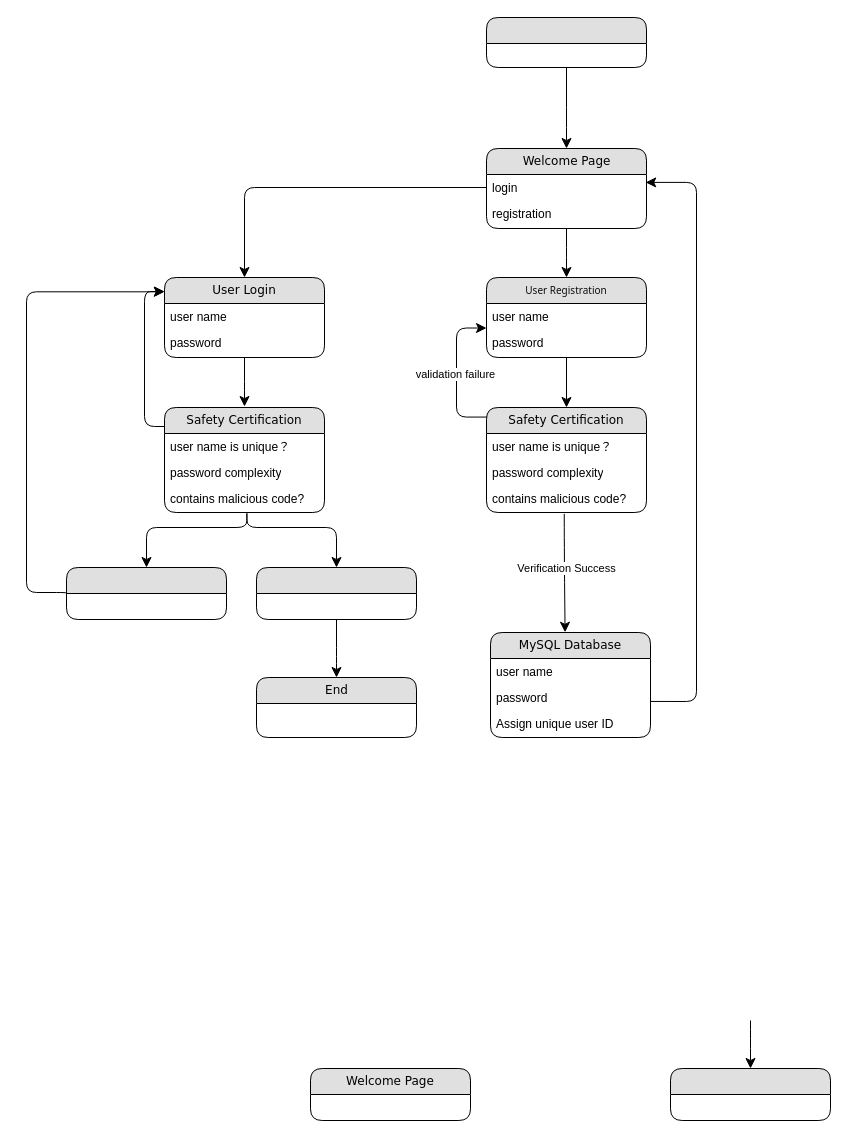
The diagram is 848 pixels wide and 1138 high, and some of its shapes have lost their labels. The shapes that lost their labels are listed below. From the top down, each one's centre as x and y in pixels, then its label:
At pixel 566 42: "Start".
At pixel 146 593: "Login Failure".
At pixel 336 593: "Login Success".
At pixel 750 1094: "Login Failure Page".
